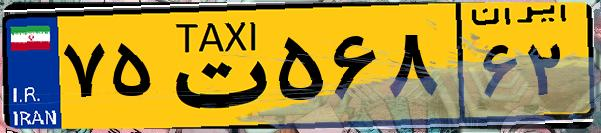2: (525, 38, 570, 115)
5: (270, 28, 330, 110), (110, 28, 158, 98)
6: (330, 28, 385, 110), (475, 38, 525, 113)
7: (57, 26, 110, 100)
8: (385, 28, 445, 110)
ت: (158, 12, 270, 120)
